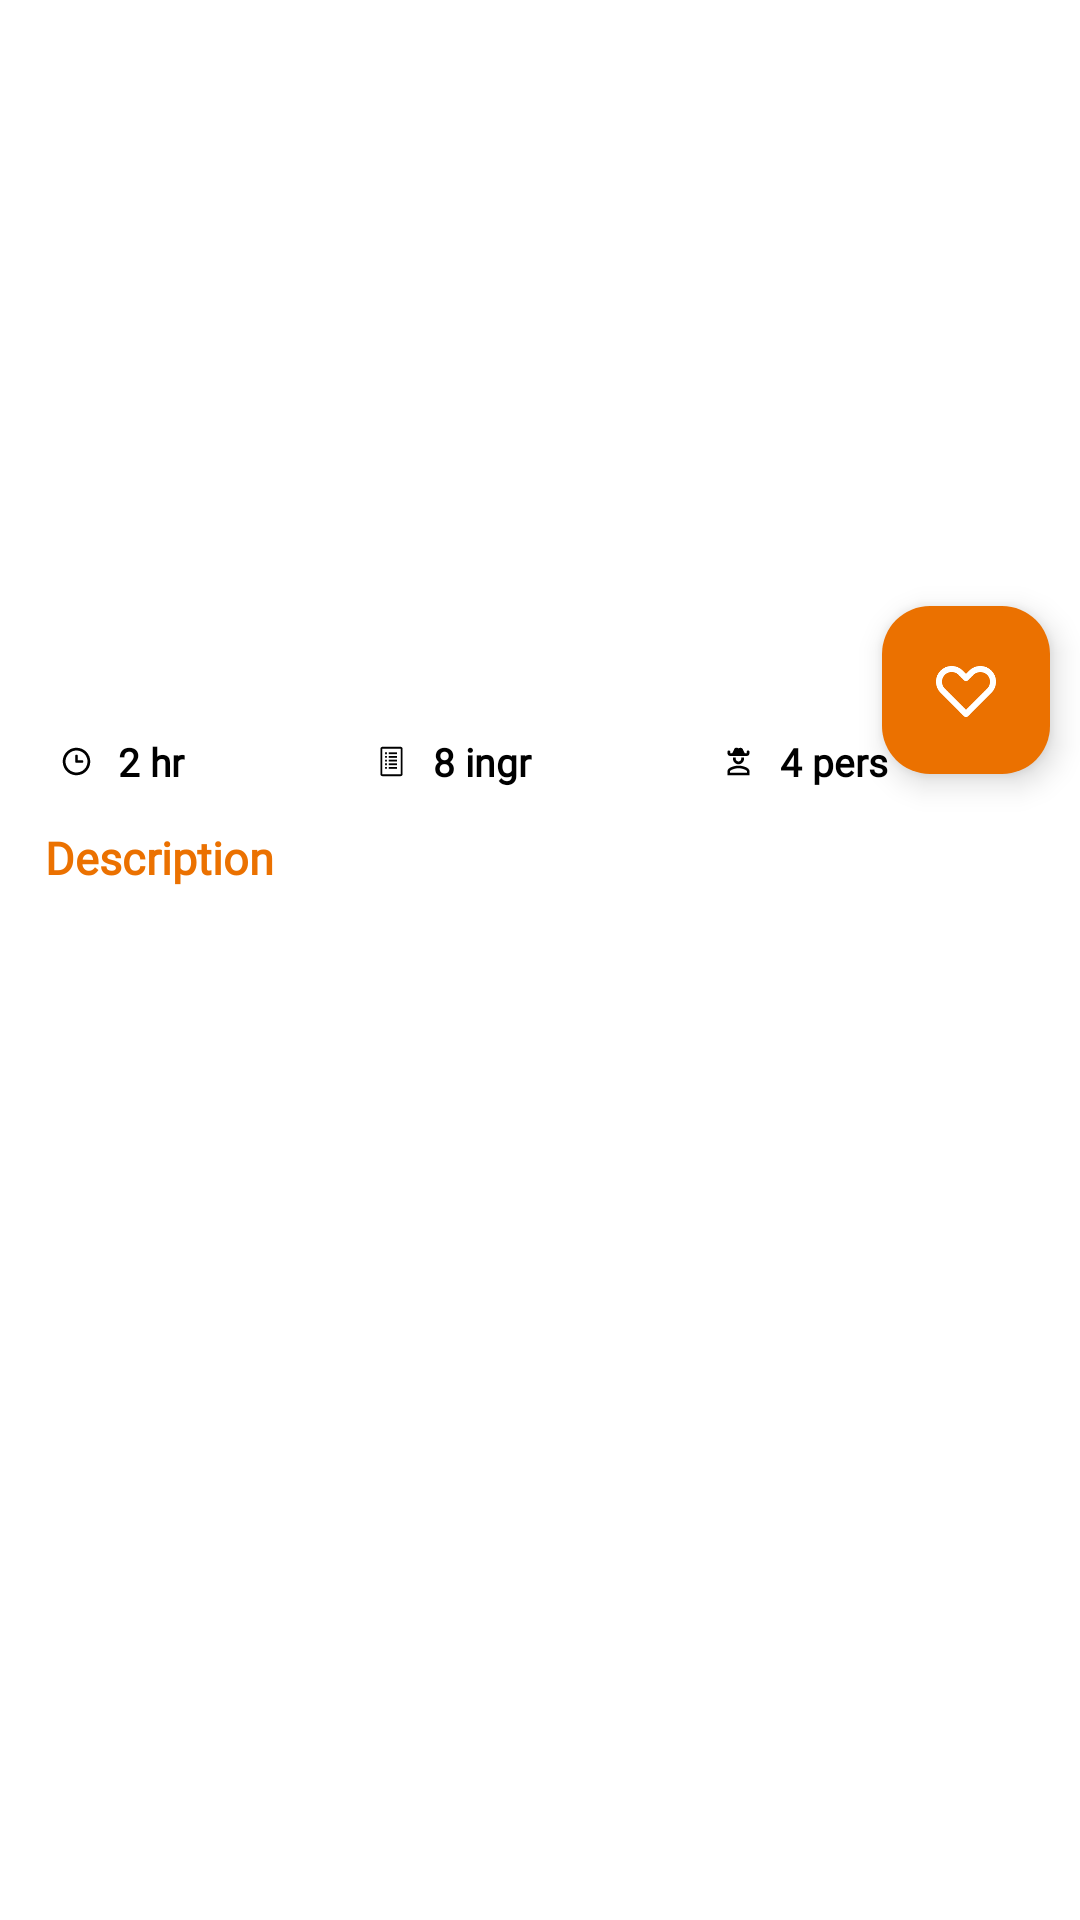

Where icons sit on this 1080px×1920px app screen, as (x1,y1,x2,y2):
favorite: (882,606,1050,774)
